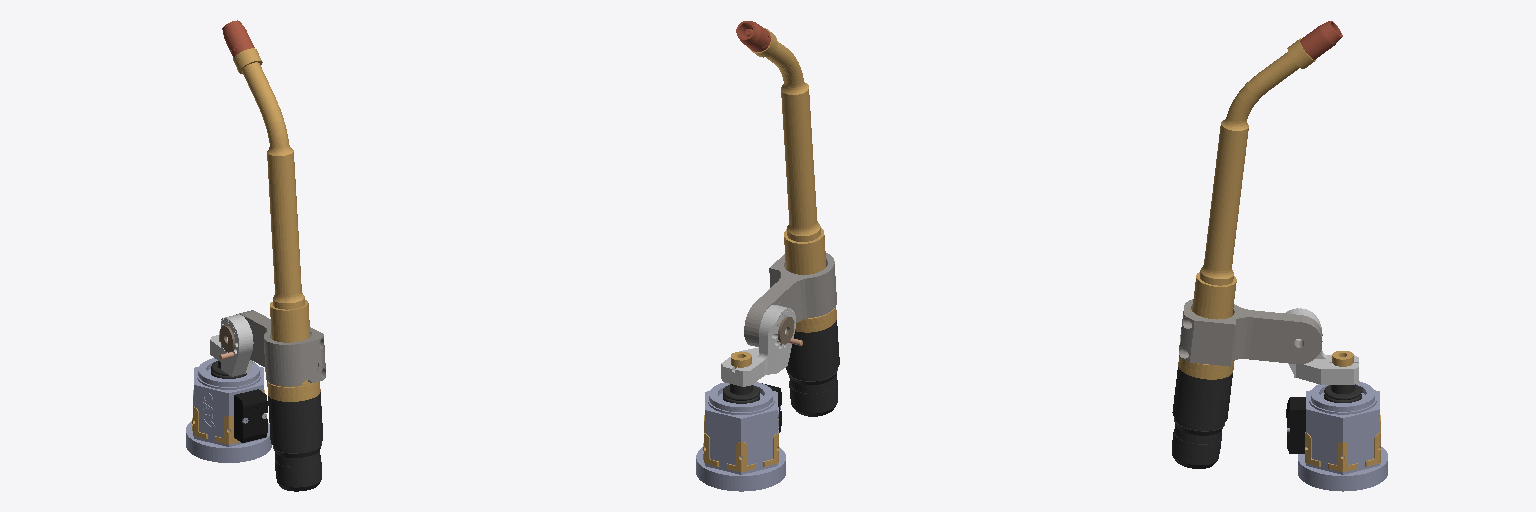
--- What the picture shows (computed from the rendered views, not written in the file) ---
Views: 3 orthographic renders of the robot side by side, from view 1: azimuth 30°, elevation 25°; view 2: azimuth 150°, elevation 25°; view 3: azimuth 270°, elevation 25°.
Robot: robot — 14 links, 13 joints (7 revolute, 6 fixed); root link world; default pose: every joint at zero.
Visible links, largest first — view 1: root, ee_joint_arm, nozzle_tip; view 2: root, ee_joint_arm, nozzle_tip; view 3: root, ee_joint_arm, nozzle_tip.
Link boxes in pixels (bbox=[...]): root: bbox=[192, 48, 325, 491]; ee_joint_arm: bbox=[186, 421, 271, 462]; nozzle_tip: bbox=[222, 20, 254, 57]; root: bbox=[703, 28, 839, 474]; ee_joint_arm: bbox=[696, 447, 785, 491]; nozzle_tip: bbox=[736, 21, 770, 51]; root: bbox=[1172, 38, 1380, 474]; ee_joint_arm: bbox=[1298, 447, 1387, 491]; nozzle_tip: bbox=[1300, 21, 1342, 59].
Bounding box of the posed robot: 0.153 × 0.3655 × 0.8374 m (x, y, z).
28 mesh visuals loaded from 36 distinct referenced files (28 binary STL); not drawn: 8 (reference not matched to a file when rendering).

robot.urdf — robot:
<robot name="">
	<link name="world">
		<inertial>
			<origin rpy="0.00000 -0.00000 0.00000" xyz="0.00000 0.00000 0.00000" />
			<mass value="0.00000" />
			<inertia ixx="0.00000" ixy="0" ixz="0" iyy="0.00000" iyz="0" izz="0.00000" />
		</inertial>
	</link>
	<link name="link_0">
		<inertial>
			<origin rpy="0.00000 -0.00000 0.00000" xyz="-0.10000 0.00000 0.07000" />
			<mass value="5.00000" />
			<inertia ixx="0.03692" ixy="0" ixz="0" iyy="0.04001" iyz="0" izz="0.05466" />
		</inertial>
		<visual>
			<origin rpy="0.00000 -0.00000 0.00000" xyz="0.00000 0.00000 0.00000" />
			<geometry>
				<mesh filename="rlbotics/envs/models/robots/kuka/iiwa/meshes/iiwa14/visual/link_0.stl" scale="1.00000 1.00000 1.00000" />
			</geometry>
			<material name="0">
				<color rgba="0.40000 0.40000 0.40000 1.00000" />
			</material>
		</visual>
		<collision>
			<origin rpy="0.00000 -0.00000 0.00000" xyz="0.00000 0.00000 0.00000" />
			<geometry>
				<mesh filename="rlbotics/envs/models/robots/kuka/iiwa/meshes/iiwa14/collision/link_0.stl" scale="1.00000 1.00000 1.00000" />
			</geometry>
		</collision>
	</link>
	<link name="link_1">
		<inertial>
			<origin rpy="0.00000 -0.00000 0.00000" xyz="-0.00350 0.00160 0.17111" />
			<mass value="3.94781" />
			<inertia ixx="0.04452" ixy="0" ixz="0" iyy="0.04071" iyz="0" izz="0.02442" />
		</inertial>
		<visual>
			<origin rpy="0.00000 -0.00000 3.14159" xyz="0.00000 0.00000 0.00000" />
			<geometry>
				<mesh filename="rlbotics/envs/models/robots/kuka/iiwa/meshes/iiwa14/visual/link_1.stl" scale="1.00000 1.00000 1.00000" />
			</geometry>
			<material name="1">
				<color rgba="1.00000 0.42353 0.03922 1.00000" />
			</material>
		</visual>
		<collision>
			<origin rpy="0.00000 -0.00000 3.14159" xyz="0.00000 0.00000 0.00000" />
			<geometry>
				<mesh filename="rlbotics/envs/models/robots/kuka/iiwa/meshes/iiwa14/collision/link_1.stl" scale="1.00000 1.00000 1.00000" />
			</geometry>
		</collision>
	</link>
	<link name="link_2">
		<inertial>
			<origin rpy="0.00000 -0.00000 0.00000" xyz="0.00767 0.16669 0.00355" />
			<mass value="4.50275" />
			<inertia ixx="0.04880" ixy="0" ixz="0" iyy="0.02769" iyz="0" izz="0.04461" />
		</inertial>
		<visual>
			<origin rpy="0.00000 -0.00000 0.00000" xyz="0.00000 0.00000 0.00000" />
			<geometry>
				<mesh filename="rlbotics/envs/models/robots/kuka/iiwa/meshes/iiwa14/visual/link_2.stl" scale="1.00000 1.00000 1.00000" />
			</geometry>
			<material name="2">
				<color rgba="1.00000 0.42353 0.03922 1.00000" />
			</material>
		</visual>
		<collision>
			<origin rpy="0.00000 -0.00000 0.00000" xyz="0.00000 0.00000 0.00000" />
			<geometry>
				<mesh filename="rlbotics/envs/models/robots/kuka/iiwa/meshes/iiwa14/collision/link_2.stl" scale="1.00000 1.00000 1.00000" />
			</geometry>
		</collision>
	</link>
	<link name="link_3">
		<inertial>
			<origin rpy="0.00000 -0.00000 0.00000" xyz="-0.00225 -0.03492 0.18898" />
			<mass value="2.45520" />
			<inertia ixx="0.02563" ixy="0" ixz="0" iyy="0.02248" iyz="0" izz="0.01140" />
		</inertial>
		<visual>
			<origin rpy="0.00000 -0.00000 3.14159" xyz="0.00000 0.00000 0.00000" />
			<geometry>
				<mesh filename="rlbotics/envs/models/robots/kuka/iiwa/meshes/iiwa14/visual/link_3.stl" scale="1.00000 1.00000 1.00000" />
			</geometry>
			<material name="3">
				<color rgba="1.00000 0.42353 0.03922 1.00000" />
			</material>
		</visual>
		<collision>
			<origin rpy="0.00000 -0.00000 3.14159" xyz="0.00000 0.00000 0.00000" />
			<geometry>
				<mesh filename="rlbotics/envs/models/robots/kuka/iiwa/meshes/iiwa14/collision/link_3.stl" scale="1.00000 1.00000 1.00000" />
			</geometry>
		</collision>
	</link>
	<link name="link_4">
		<inertial>
			<origin rpy="0.00000 -0.00000 0.00000" xyz="0.00020 -0.05268 0.03818" />
			<mass value="2.61155" />
			<inertia ixx="0.02227" ixy="0" ixz="0" iyy="0.01212" iyz="0" izz="0.01893" />
		</inertial>
		<visual>
			<origin rpy="0.00000 -0.00000 3.14159" xyz="0.00000 0.00000 0.00000" />
			<geometry>
				<mesh filename="rlbotics/envs/models/robots/kuka/iiwa/meshes/iiwa14/visual/link_4.stl" scale="1.00000 1.00000 1.00000" />
			</geometry>
			<material name="4">
				<color rgba="1.00000 0.42353 0.03922 1.00000" />
			</material>
		</visual>
		<collision>
			<origin rpy="0.00000 -0.00000 3.14159" xyz="0.00000 0.00000 0.00000" />
			<geometry>
				<mesh filename="rlbotics/envs/models/robots/kuka/iiwa/meshes/iiwa14/collision/link_4.stl" scale="1.00000 1.00000 1.00000" />
			</geometry>
		</collision>
	</link>
	<link name="link_5">
		<inertial>
			<origin rpy="0.00000 -0.00000 0.00000" xyz="0.00005 -0.00237 0.00416" />
			<mass value="3.41001" />
			<inertia ixx="0.03127" ixy="0" ixz="0" iyy="0.02851" iyz="0" izz="0.01426" />
		</inertial>
		<visual>
			<origin rpy="0.00000 -0.00000 0.00000" xyz="0.00000 0.00000 0.00000" />
			<geometry>
				<mesh filename="rlbotics/envs/models/robots/kuka/iiwa/meshes/iiwa14/visual/link_5.stl" scale="1.00000 1.00000 1.00000" />
			</geometry>
			<material name="5">
				<color rgba="1.00000 0.42353 0.03922 1.00000" />
			</material>
		</visual>
		<collision>
			<origin rpy="0.00000 -0.00000 0.00000" xyz="0.00000 0.00000 0.00000" />
			<geometry>
				<mesh filename="rlbotics/envs/models/robots/kuka/iiwa/meshes/iiwa14/collision/link_5.stl" scale="1.00000 1.00000 1.00000" />
			</geometry>
		</collision>
	</link>
	<link name="link_6">
		<inertial>
			<origin rpy="0.00000 -0.00000 0.00000" xyz="0.00049 0.02019 -0.02750" />
			<mass value="3.38795" />
			<inertia ixx="0.01430" ixy="0" ixz="0" iyy="0.01122" iyz="0" izz="0.01387" />
		</inertial>
		<visual>
			<origin rpy="0.00000 -0.00000 0.00000" xyz="0.00000 0.00000 0.00000" />
			<geometry>
				<mesh filename="rlbotics/envs/models/robots/kuka/iiwa/meshes/iiwa14/visual/link_6.stl" scale="1.00000 1.00000 1.00000" />
			</geometry>
			<material name="6">
				<color rgba="1.00000 0.42353 0.03922 1.00000" />
			</material>
		</visual>
		<collision>
			<origin rpy="0.00000 -0.00000 0.00000" xyz="0.00000 0.00000 0.00000" />
			<geometry>
				<mesh filename="rlbotics/envs/models/robots/kuka/iiwa/meshes/iiwa14/collision/link_6.stl" scale="1.00000 1.00000 1.00000" />
			</geometry>
		</collision>
	</link>
	<link name="link_7">
		<inertial>
			<origin rpy="0.00000 -0.00000 0.00000" xyz="-0.03465 -0.02324 -0.00962" />
			<mass value="0.50617" />
			<inertia ixx="0.00067" ixy="0" ixz="0" iyy="0.00066" iyz="0" izz="0.00102" />
		</inertial>
		<visual>
			<origin rpy="0.00000 -0.00000 0.00000" xyz="0.00000 0.00000 0.00000" />
			<geometry>
				<mesh filename="rlbotics/envs/models/robots/kuka/iiwa/meshes/iiwa14/visual/link_7.stl" scale="1.00000 1.00000 1.00000" />
			</geometry>
			<material name="7">
				<color rgba="0.40000 0.40000 0.40000 1.00000" />
			</material>
		</visual>
		<collision>
			<origin rpy="0.00000 -0.00000 0.00000" xyz="0.00000 0.00000 0.00000" />
			<geometry>
				<mesh filename="rlbotics/envs/models/robots/kuka/iiwa/meshes/iiwa14/collision/link_7.stl" scale="1.00000 1.00000 1.00000" />
			</geometry>
		</collision>
	</link>
	<link name="link_ee">
		<inertial>
			<origin rpy="0.00000 -0.00000 0.00000" xyz="0.00000 0.00000 0.00000" />
			<mass value="1.00000" />
			<inertia ixx="0.00000" ixy="0" ixz="0" iyy="0.00000" iyz="0" izz="0.00000" />
		</inertial>
	</link>
	<link name="link_ee_kuka">
		<inertial>
			<origin rpy="0.00000 -0.00000 0.00000" xyz="0.00000 0.00000 0.00000" />
			<mass value="1.00000" />
			<inertia ixx="0.00000" ixy="0" ixz="0" iyy="0.00000" iyz="0" izz="0.00000" />
		</inertial>
	</link>
	<link name="root">
		<inertial>
			<origin rpy="0.00000 -0.00000 0.00000" xyz="-0.01448 -0.00427 0.02204" />
			<mass value="10.00000" />
			<inertia ixx="0.62536" ixy="0" ixz="0" iyy="0.53801" iyz="0" izz="0.12460" />
		</inertial>
		<visual>
			<origin rpy="0.00000 -0.00000 0.00000" xyz="-0.02792 -0.00816 0.04271" />
			<geometry>
				<mesh filename="rlbotics/envs/models/end_effectors/welding/welding_torch/meshes/stl/Body1.stl" scale="0.01913 0.01913 0.01913" />
			</geometry>
			<material name="8">
				<color rgba="0.80000 0.80000 0.80000 1.00000" />
			</material>
		</visual>
		<visual>
			<origin rpy="0.00000 -0.00000 0.00000" xyz="-0.02792 -0.00816 0.04271" />
			<geometry>
				<mesh filename="rlbotics/envs/models/end_effectors/welding/welding_torch/meshes/stl/Body10.stl" scale="0.01913 0.01913 0.01913" />
			</geometry>
			<material name="9">
				<color rgba="0.80000 0.64627 0.39843 1.00000" />
			</material>
		</visual>
		<visual>
			<origin rpy="0.00000 -0.00000 0.00000" xyz="-0.02792 -0.00816 0.04271" />
			<geometry>
				<mesh filename="rlbotics/envs/models/end_effectors/welding/welding_torch/meshes/stl/Body11.stl" scale="0.01913 0.01913 0.01913" />
			</geometry>
			<material name="10">
				<color rgba="0.80000 0.64627 0.39843 1.00000" />
			</material>
		</visual>
		<visual>
			<origin rpy="0.00000 -0.00000 0.00000" xyz="-0.02792 -0.00816 0.04271" />
			<geometry>
				<mesh filename="rlbotics/envs/models/end_effectors/welding/welding_torch/meshes/stl/Body12.stl" scale="0.01913 0.01913 0.01913" />
			</geometry>
			<material name="11">
				<color rgba="0.63373 0.65569 0.74667 1.00000" />
			</material>
		</visual>
		<visual>
			<origin rpy="0.00000 -0.00000 0.00000" xyz="-0.02792 -0.00816 0.04271" />
			<geometry>
				<mesh filename="rlbotics/envs/models/end_effectors/welding/welding_torch/meshes/stl/Body13.stl" scale="0.01913 0.01913 0.01913" />
			</geometry>
			<material name="12">
				<color rgba="0.71843 0.73412 0.74353 1.00000" />
			</material>
		</visual>
		<visual>
			<origin rpy="0.00000 -0.00000 0.00000" xyz="-0.02792 -0.00816 0.04271" />
			<geometry>
				<mesh filename="rlbotics/envs/models/end_effectors/welding/welding_torch/meshes/stl/Body14.stl" scale="0.01913 0.01913 0.01913" />
			</geometry>
			<material name="13">
				<color rgba="0.63373 0.65569 0.74667 1.00000" />
			</material>
		</visual>
		<visual>
			<origin rpy="0.00000 -0.00000 0.00000" xyz="-0.02792 -0.00816 0.04271" />
			<geometry>
				<mesh filename="rlbotics/envs/models/end_effectors/welding/welding_torch/meshes/stl/Body15.stl" scale="0.01913 0.01913 0.01913" />
			</geometry>
			<material name="14">
				<color rgba="0.80000 0.64627 0.39843 1.00000" />
			</material>
		</visual>
		<visual>
			<origin rpy="0.00000 -0.00000 0.00000" xyz="-0.02792 -0.00816 0.04271" />
			<geometry>
				<mesh filename="rlbotics/envs/models/end_effectors/welding/welding_torch/meshes/stl/Body16.stl" scale="0.01913 0.01913 0.01913" />
			</geometry>
			<material name="15">
				<color rgba="0.63373 0.65569 0.74667 1.00000" />
			</material>
		</visual>
		<visual>
			<origin rpy="0.00000 -0.00000 0.00000" xyz="-0.02792 -0.00816 0.04271" />
			<geometry>
				<mesh filename="rlbotics/envs/models/end_effectors/welding/welding_torch/meshes/stl/Body17.stl" scale="0.01913 0.01913 0.01913" />
			</geometry>
			<material name="16">
				<color rgba="0.63373 0.65569 0.74667 1.00000" />
			</material>
		</visual>
		<visual>
			<origin rpy="0.00000 -0.00000 0.00000" xyz="-0.02792 -0.00816 0.04271" />
			<geometry>
				<mesh filename="rlbotics/envs/models/end_effectors/welding/welding_torch/meshes/stl/Body18.stl" scale="0.01913 0.01913 0.01913" />
			</geometry>
			<material name="17">
				<color rgba="0.63373 0.65569 0.74667 1.00000" />
			</material>
		</visual>
		<visual>
			<origin rpy="0.00000 -0.00000 0.00000" xyz="-0.02792 -0.00816 0.04271" />
			<geometry>
				<mesh filename="rlbotics/envs/models/end_effectors/welding/welding_torch/meshes/stl/Body19.stl" scale="0.01913 0.01913 0.01913" />
			</geometry>
			<material name="18">
				<color rgba="0.63373 0.65569 0.74667 1.00000" />
			</material>
		</visual>
		<visual>
			<origin rpy="0.00000 -0.00000 0.00000" xyz="-0.02792 -0.00816 0.04271" />
			<geometry>
				<mesh filename="rlbotics/envs/models/end_effectors/welding/welding_torch/meshes/stl/Body2.stl" scale="0.01913 0.01913 0.01913" />
			</geometry>
			<material name="19">
				<color rgba="0.54902 0.48627 0.42353 1.00000" />
			</material>
		</visual>
		<visual>
			<origin rpy="0.00000 -0.00000 0.00000" xyz="-0.02792 -0.00816 0.04271" />
			<geometry>
				<mesh filename="rlbotics/envs/models/end_effectors/welding/welding_torch/meshes/stl/Body20.stl" scale="0.01913 0.01913 0.01913" />
			</geometry>
			<material name="20">
				<color rgba="0.63373 0.65569 0.74667 1.00000" />
			</material>
		</visual>
		<visual>
			<origin rpy="0.00000 -0.00000 0.00000" xyz="-0.02792 -0.00816 0.04271" />
			<geometry>
				<mesh filename="rlbotics/envs/models/end_effectors/welding/welding_torch/meshes/stl/Body21.stl" scale="0.01913 0.01913 0.01913" />
			</geometry>
			<material name="21">
				<color rgba="0.80000 0.64627 0.39843 1.00000" />
			</material>
		</visual>
		<visual>
			<origin rpy="0.00000 -0.00000 0.00000" xyz="-0.02792 -0.00816 0.04271" />
			<geometry>
				<mesh filename="rlbotics/envs/models/end_effectors/welding/welding_torch/meshes/stl/Body23.stl" scale="0.01913 0.01913 0.01913" />
			</geometry>
			<material name="22">
				<color rgba="0.23843 0.23843 0.23843 1.00000" />
			</material>
		</visual>
		<visual>
			<origin rpy="0.00000 -0.00000 0.00000" xyz="-0.02792 -0.00816 0.04271" />
			<geometry>
				<mesh filename="rlbotics/envs/models/end_effectors/welding/welding_torch/meshes/stl/Body24.stl" scale="0.01913 0.01913 0.01913" />
			</geometry>
			<material name="23">
				<color rgba="0.80000 0.64627 0.39843 1.00000" />
			</material>
		</visual>
		<visual>
			<origin rpy="0.00000 -0.00000 0.00000" xyz="-0.02792 -0.00816 0.04271" />
			<geometry>
				<mesh filename="rlbotics/envs/models/end_effectors/welding/welding_torch/meshes/stl/Body25.stl" scale="0.01913 0.01913 0.01913" />
			</geometry>
			<material name="24">
				<color rgba="0.23843 0.23843 0.23843 1.00000" />
			</material>
		</visual>
		<visual>
			<origin rpy="0.00000 -0.00000 0.00000" xyz="-0.02792 -0.00816 0.04271" />
			<geometry>
				<mesh filename="rlbotics/envs/models/end_effectors/welding/welding_torch/meshes/stl/Body26.stl" scale="0.01913 0.01913 0.01913" />
			</geometry>
			<material name="25">
				<color rgba="0.62118 0.55843 0.51137 1.00000" />
			</material>
		</visual>
		<visual>
			<origin rpy="0.00000 -0.00000 0.00000" xyz="-0.02792 -0.00816 0.04271" />
			<geometry>
				<mesh filename="rlbotics/envs/models/end_effectors/welding/welding_torch/meshes/stl/Body27.stl" scale="0.01913 0.01913 0.01913" />
			</geometry>
			<material name="26">
				<color rgba="0.67137 0.37333 0.29490 1.00000" />
			</material>
		</visual>
		<visual>
			<origin rpy="0.00000 -0.00000 0.00000" xyz="-0.02792 -0.00816 0.04271" />
			<geometry>
				<mesh filename="rlbotics/envs/models/end_effectors/welding/welding_torch/meshes/stl/Body3.stl" scale="0.01913 0.01913 0.01913" />
			</geometry>
			<material name="27">
				<color rgba="0.62118 0.60549 0.58980 1.00000" />
			</material>
		</visual>
		<visual>
			<origin rpy="0.00000 -0.00000 0.00000" xyz="-0.02792 -0.00816 0.04271" />
			<geometry>
				<mesh filename="rlbotics/envs/models/end_effectors/welding/welding_torch/meshes/stl/Body4.stl" scale="0.01913 0.01913 0.01913" />
			</geometry>
			<material name="28">
				<color rgba="0.80000 0.62431 0.52706 1.00000" />
			</material>
		</visual>
		<visual>
			<origin rpy="0.00000 -0.00000 0.00000" xyz="-0.02792 -0.00816 0.04271" />
			<geometry>
				<mesh filename="rlbotics/envs/models/end_effectors/welding/welding_torch/meshes/stl/Body5.stl" scale="0.01913 0.01913 0.01913" />
			</geometry>
			<material name="29">
				<color rgba="0.63373 0.65569 0.74667 1.00000" />
			</material>
		</visual>
		<visual>
			<origin rpy="0.00000 -0.00000 0.00000" xyz="-0.02792 -0.00816 0.04271" />
			<geometry>
				<mesh filename="rlbotics/envs/models/end_effectors/welding/welding_torch/meshes/stl/Body6.stl" scale="0.01913 0.01913 0.01913" />
			</geometry>
			<material name="30">
				<color rgba="0.16000 0.16000 0.16000 1.00000" />
			</material>
		</visual>
		<visual>
			<origin rpy="0.00000 -0.00000 0.00000" xyz="-0.02792 -0.00816 0.04271" />
			<geometry>
				<mesh filename="rlbotics/envs/models/end_effectors/welding/welding_torch/meshes/stl/Body7.stl" scale="0.01913 0.01913 0.01913" />
			</geometry>
			<material name="31">
				<color rgba="0.80000 0.64627 0.39843 1.00000" />
			</material>
		</visual>
		<visual>
			<origin rpy="0.00000 -0.00000 0.00000" xyz="-0.02792 -0.00816 0.04271" />
			<geometry>
				<mesh filename="rlbotics/envs/models/end_effectors/welding/welding_torch/meshes/stl/Body8.stl" scale="0.01913 0.01913 0.01913" />
			</geometry>
			<material name="32">
				<color rgba="0.80000 0.64627 0.39843 1.00000" />
			</material>
		</visual>
		<visual>
			<origin rpy="0.00000 -0.00000 0.00000" xyz="-0.02792 -0.00816 0.04271" />
			<geometry>
				<mesh filename="rlbotics/envs/models/end_effectors/welding/welding_torch/meshes/stl/Body9.stl" scale="0.01913 0.01913 0.01913" />
			</geometry>
			<material name="33">
				<color rgba="0.80000 0.64627 0.39843 1.00000" />
			</material>
		</visual>
		<collision>
			<origin rpy="0.00000 -0.00000 0.00000" xyz="-0.02694 -0.00899 0.04304" />
			<geometry>
				<mesh filename="rlbotics/envs/models/end_effectors/welding/welding_torch/meshes/stl/Body1.001.stl" scale="1.91308 1.91308 1.91308" />
			</geometry>
		</collision>
		<collision>
			<origin rpy="0.00000 -0.00000 0.00000" xyz="-0.03031 -0.00834 0.04250" />
			<geometry>
				<mesh filename="rlbotics/envs/models/end_effectors/welding/welding_torch/meshes/stl/Body23.001.stl" scale="1.91308 1.91308 1.91308" />
			</geometry>
		</collision>
		<collision>
			<origin rpy="0.00000 -0.00000 0.00000" xyz="-0.02830 -0.00808 0.04410" />
			<geometry>
				<mesh filename="rlbotics/envs/models/end_effectors/welding/welding_torch/meshes/stl/Body24.001.stl" scale="1.91308 1.91308 1.91308" />
			</geometry>
		</collision>
		<collision>
			<origin rpy="0.00000 -0.00000 0.00000" xyz="-0.02798 -0.00886 0.05092" />
			<geometry>
				<mesh filename="rlbotics/envs/models/end_effectors/welding/welding_torch/meshes/stl/Body25.001.stl" scale="1.91308 1.91308 1.91308" />
			</geometry>
		</collision>
		<collision>
			<origin rpy="0.00000 -0.00000 0.00000" xyz="-0.02695 -0.00714 0.04028" />
			<geometry>
				<mesh filename="rlbotics/envs/models/end_effectors/welding/welding_torch/meshes/stl/Body3.001.stl" scale="1.91308 1.91308 1.91308" />
			</geometry>
		</collision>
		<collision>
			<origin rpy="0.00000 -0.00000 0.00000" xyz="-0.02659 -0.00839 0.04212" />
			<geometry>
				<mesh filename="rlbotics/envs/models/end_effectors/welding/welding_torch/meshes/stl/Body5.001.stl" scale="1.91308 1.91308 1.91308" />
			</geometry>
		</collision>
		<collision>
			<origin rpy="0.00000 -0.00000 0.00000" xyz="-0.02771 -0.00796 0.04287" />
			<geometry>
				<mesh filename="rlbotics/envs/models/end_effectors/welding/welding_torch/meshes/stl/Body6.001.stl" scale="1.91308 1.91308 1.91308" />
			</geometry>
		</collision>
	</link>
	<link name="ee_joint_arm">
		<inertial>
			<origin rpy="0.00000 -0.00000 0.00000" xyz="-0.01458 -0.00585 0.05244" />
			<mass value="2.00000" />
			<inertia ixx="0.00442" ixy="0" ixz="0" iyy="0.00442" iyz="0" izz="0.00843" />
		</inertial>
		<visual>
			<origin rpy="0.00000 -0.00000 0.00000" xyz="-0.02797 -0.01121 0.09982" />
			<geometry>
				<mesh filename="rlbotics/envs/models/end_effectors/welding/welding_torch/meshes/stl/Body22.stl" scale="0.01913 0.01913 0.01913" />
			</geometry>
			<material name="34">
				<color rgba="0.63373 0.65569 0.74667 1.00000" />
			</material>
		</visual>
		<collision>
			<origin rpy="0.00000 -0.00000 0.00000" xyz="-0.02788 -0.01119 0.10032" />
			<geometry>
				<mesh filename="rlbotics/envs/models/end_effectors/welding/welding_torch/meshes/stl/Body22.001.stl" scale="1.91308 1.91308 1.91308" />
			</geometry>
		</collision>
	</link>
	<link name="nozzle_tip">
		<inertial>
			<origin rpy="0.00000 -0.00000 0.00000" xyz="-0.01570 -0.30904 -0.22158" />
			<mass value="2.00000" />
			<inertia ixx="0.00381" ixy="0" ixz="0" iyy="0.00232" iyz="0" izz="0.00228" />
		</inertial>
		<visual>
			<origin rpy="-0.92502 0.00000 0.00000" xyz="-0.02985 -0.59008 -0.41691" />
			<geometry>
				<mesh filename="rlbotics/envs/models/end_effectors/welding/welding_torch/meshes/stl/Body28.stl" scale="0.01913 0.01913 0.01913" />
			</geometry>
			<material name="35">
				<color rgba="0.67137 0.37333 0.29490 1.00000" />
			</material>
		</visual>
		<collision>
			<origin rpy="-0.92502 0.00000 0.00000" xyz="-0.03004 -0.59122 -0.42390" />
			<geometry>
				<mesh filename="rlbotics/envs/models/end_effectors/welding/welding_torch/meshes/stl/Body28.001.stl" scale="1.91308 1.91308 1.91308" />
			</geometry>
		</collision>
	</link>
	<joint name="world_joint" type="fixed">
		<parent link="world" />
		<child link="link_0" />
		<dynamics damping="1.0" friction="0.0001" />
		<origin rpy="0.00000 -0.00000 0.00000" xyz="0.00000 0.00000 0.00000" />
		<axis xyz="0.00000 0.00000 0.00000" />
	</joint>
	<joint name="joint_0" type="revolute">
		<parent link="link_0" />
		<child link="link_1" />
		<dynamics damping="0.0" friction="0.0" />
		<origin rpy="0.00000 -0.00000 3.14159" xyz="0.00000 0.00000 0.15750" />
		<axis xyz="0.00000 0.00000 1.00000" />
	<limit effort="300.0" lower="-2.9670597283903604" upper="2.9670597283903604" velocity="10.0" /></joint>
	<joint name="joint_1" type="revolute">
		<parent link="link_1" />
		<child link="link_2" />
		<dynamics damping="0.0" friction="0.0" />
		<origin rpy="1.57080 -0.00000 0.00000" xyz="0.00000 0.00000 0.20250" />
		<axis xyz="0.00000 0.00000 1.00000" />
	<limit effort="300.0" lower="-2.0943951023931953" upper="2.0943951023931953" velocity="10.0" /></joint>
	<joint name="joint_2" type="revolute">
		<parent link="link_2" />
		<child link="link_3" />
		<dynamics damping="0.0" friction="0.0" />
		<origin rpy="-1.57080 0.00000 -0.00000" xyz="0.00000 0.20450 0.00000" />
		<axis xyz="0.00000 0.00000 1.00000" />
	<limit effort="300.0" lower="-2.9670597283903604" upper="2.9670597283903604" velocity="10.0" /></joint>
	<joint name="joint_3" type="revolute">
		<parent link="link_3" />
		<child link="link_4" />
		<dynamics damping="0.0" friction="0.0" />
		<origin rpy="-1.57080 0.00000 0.00000" xyz="0.00000 0.00000 0.21550" />
		<axis xyz="0.00000 0.00000 1.00000" />
	<limit effort="300.0" lower="-2.0943951023931953" upper="2.0943951023931953" velocity="10.0" /></joint>
	<joint name="joint_4" type="revolute">
		<parent link="link_4" />
		<child link="link_5" />
		<dynamics damping="0.0" friction="0.0" />
		<origin rpy="1.57080 -0.00000 0.00000" xyz="0.00000 -0.18450 0.00000" />
		<axis xyz="0.00000 0.00000 1.00000" />
	<limit effort="300.0" lower="-2.9670597283903604" upper="2.9670597283903604" velocity="10.0" /></joint>
	<joint name="joint_5" type="revolute">
		<parent link="link_5" />
		<child link="link_6" />
		<dynamics damping="0.0" friction="0.0" />
		<origin rpy="1.57080 -0.00000 0.00000" xyz="0.00000 0.00000 0.21550" />
		<axis xyz="0.00000 0.00000 1.00000" />
	<limit effort="300.0" lower="-2.0943951023931953" upper="2.0943951023931953" velocity="10.0" /></joint>
	<joint name="joint_6" type="revolute">
		<parent link="link_6" />
		<child link="link_7" />
		<dynamics damping="0.0" friction="0.0" />
		<origin rpy="-1.57080 0.00000 0.00000" xyz="0.00000 0.08100 0.00000" />
		<axis xyz="0.00000 0.00000 1.00000" />
	<limit effort="300.0" lower="-3.0543261909900763" upper="3.0543261909900763" velocity="10.0" /></joint>
	<joint name="joint_ee" type="fixed">
		<parent link="link_7" />
		<child link="link_ee" />
		<dynamics damping="1.0" friction="0.0001" />
		<origin rpy="0.00000 -1.57080 0.00000" xyz="0.00000 0.00000 0.04500" />
		<axis xyz="0.00000 0.00000 0.00000" />
	</joint>
	<joint name="joint_ee_kuka" type="fixed">
		<parent link="link_7" />
		<child link="link_ee_kuka" />
		<dynamics damping="1.0" friction="0.0001" />
		<origin rpy="-0.00000 0.00000 -0.00000" xyz="0.00000 0.00000 0.04500" />
		<axis xyz="0.00000 0.00000 0.00000" />
	</joint>
	<joint name="joint_dummy1" type="fixed">
		<parent link="link_ee" />
		<child link="root" />
		<dynamics damping="1.0" friction="0.0001" />
		<origin rpy="0.00000 1.57080 0.00000" xyz="0.00000 0.00000 0.00000" />
		<axis xyz="0.00000 0.00000 1.00000" />
	</joint>
	<joint name="ee_joint_arm" type="fixed">
		<parent link="root" />
		<child link="ee_joint_arm" />
		<dynamics damping="1.0" friction="0.0001" />
		<origin rpy="0.00000 -0.00000 0.00000" xyz="0.00005 0.00304 -0.05711" />
		<axis xyz="0.00000 0.00000 0.00000" />
	</joint>
	<joint name="nozzle_tip" type="fixed">
		<parent link="root" />
		<child link="nozzle_tip" />
		<dynamics damping="1.0" friction="0.0001" />
		<origin rpy="0.92502 -0.00000 0.00000" xyz="0.00193 0.01399 0.76487" />
		<axis xyz="0.00000 0.00000 0.00000" />
	</joint>
</robot>
